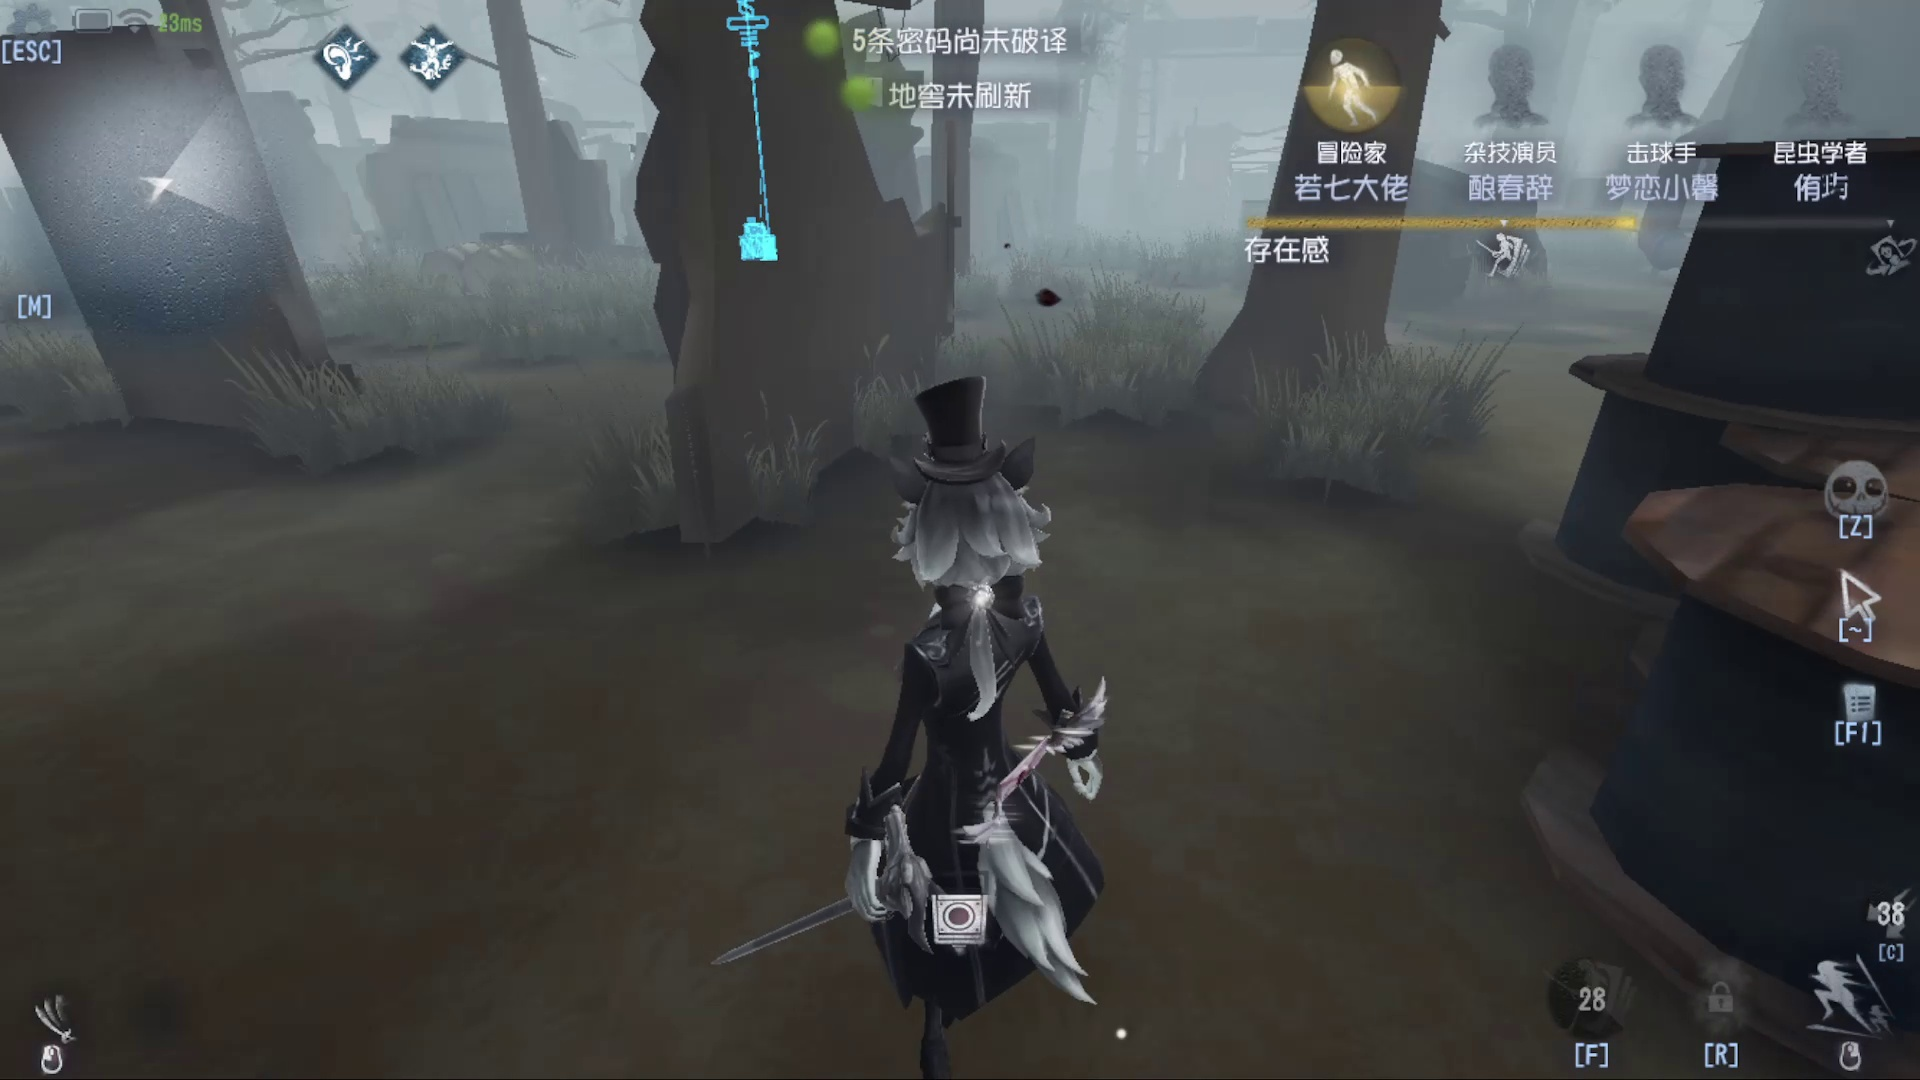密码机: (712, 1, 822, 295)
